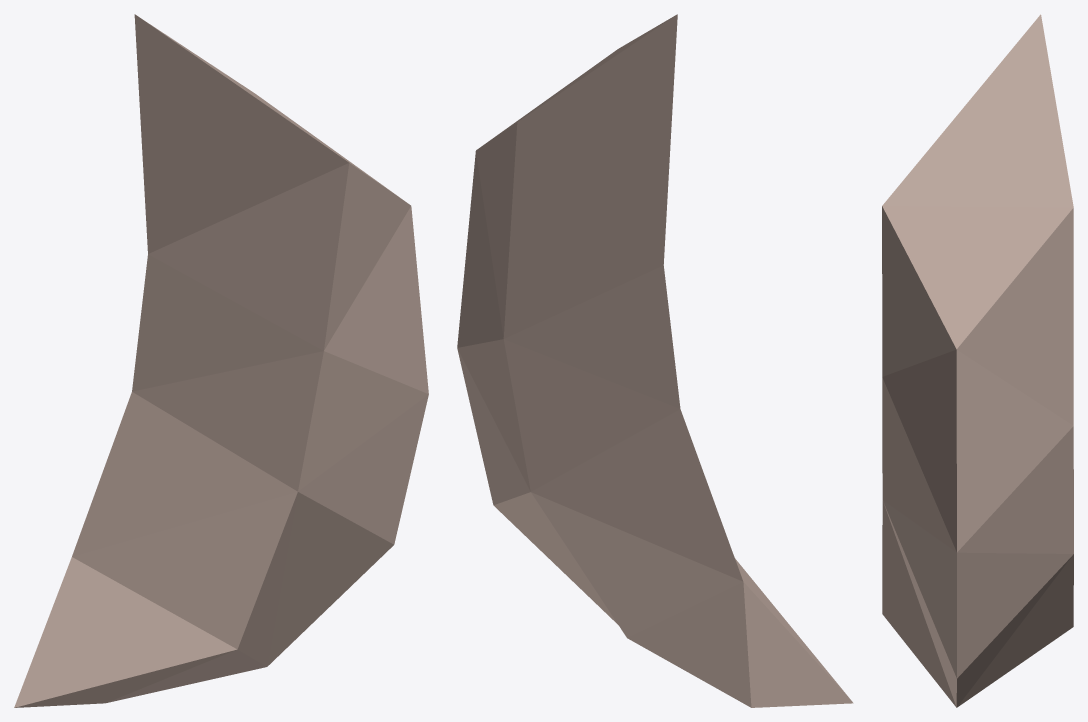
The model's file is garlic clove_1.fbx.
3 renders of one model, left to right at view 1: azimuth 30°, elevation 25°; view 2: azimuth 150°, elevation 25°; view 3: azimuth 270°, elevation 25°, orthographic. The views are drawn at different scales.
Visible parts, largest first — view 1: Garlic_0; view 2: Garlic_0; view 3: Garlic_0.
Part boxes in pixels (x1,y1,x2,y2): Garlic_0: (14, 14, 428, 707); Garlic_0: (457, 14, 853, 707); Garlic_0: (882, 14, 1073, 707).
Size of the model in its own units: 5.11 by 8.11 by 2.12.
